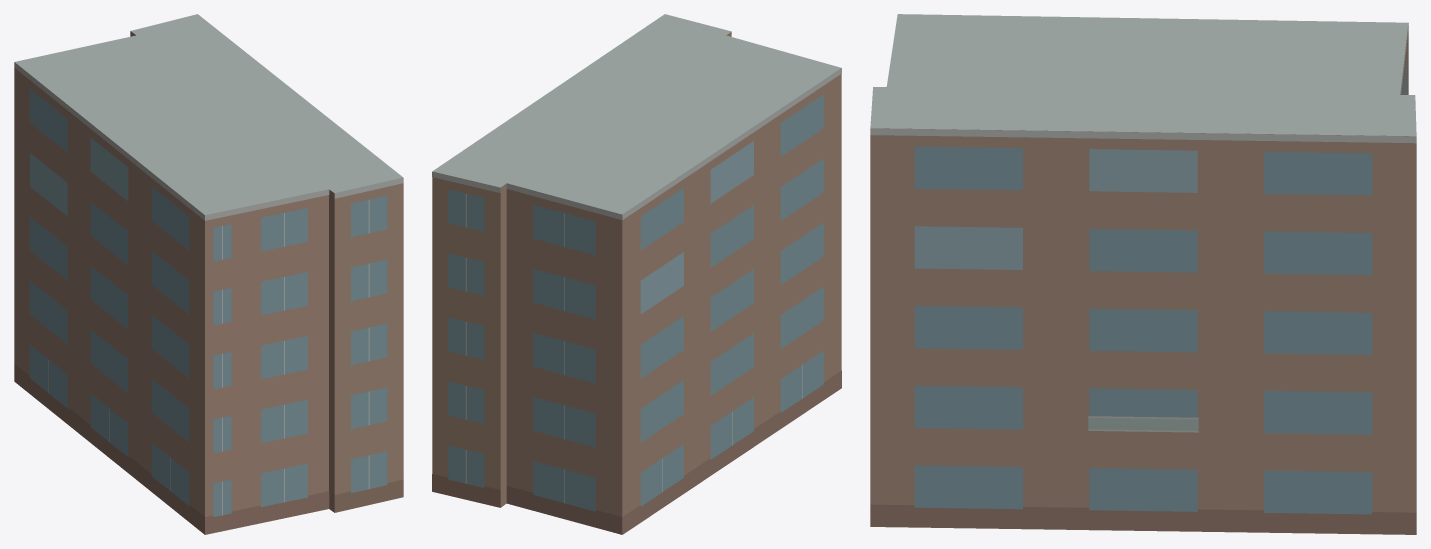
The model's file is survey-upis-32617843.glb.
3 renders of one model, left to right at view 1: azimuth 30°, elevation 25°; view 2: azimuth 150°, elevation 25°; view 3: azimuth 270°, elevation 25°, orthographic. The views are drawn at different scales.
Visible parts, largest first — view 1: survey-upis-32617843.tmp; view 2: survey-upis-32617843.tmp; view 3: survey-upis-32617843.tmp.
Part boxes in pixels (box(x1,y1,x2,y2)): survey-upis-32617843.tmp: box(14, 14, 403, 534); survey-upis-32617843.tmp: box(432, 14, 841, 534); survey-upis-32617843.tmp: box(870, 14, 1416, 534).
Bounding box in the file's own units: 9.18 × 13.95 × 17.34.
